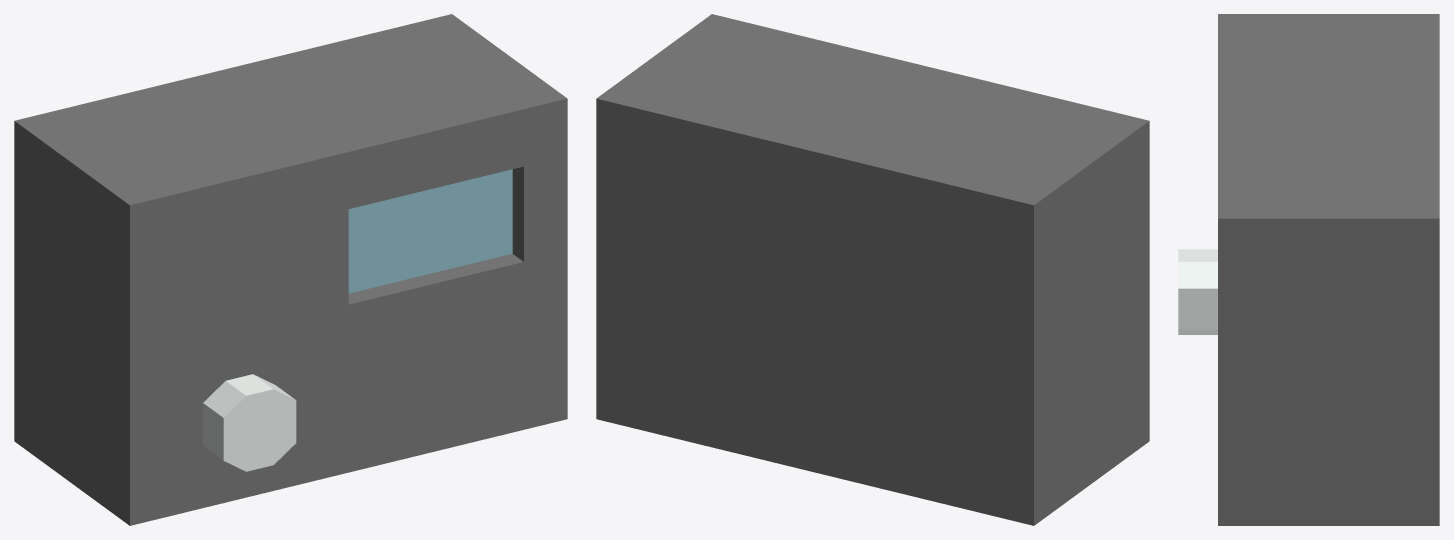
The model's file is cooler akuarium.fbx.
The picture shows the model from 3 angles, left to right: view 1: azimuth 30°, elevation 25°; view 2: azimuth 150°, elevation 25°; view 3: azimuth 270°, elevation 25°; orthographic projection. The views are drawn at different scales.
Visible parts, largest first — view 1: Cooler Button; view 2: Cooler Button; view 3: Cooler Button.
Part boxes in pixels (<box>): Cooler Button: <box>14,14,567,525</box>; Cooler Button: <box>596,14,1149,525</box>; Cooler Button: <box>1178,14,1439,525</box>.
Bounding box in the file's own units: 20.85 × 14.6 × 11.24.
